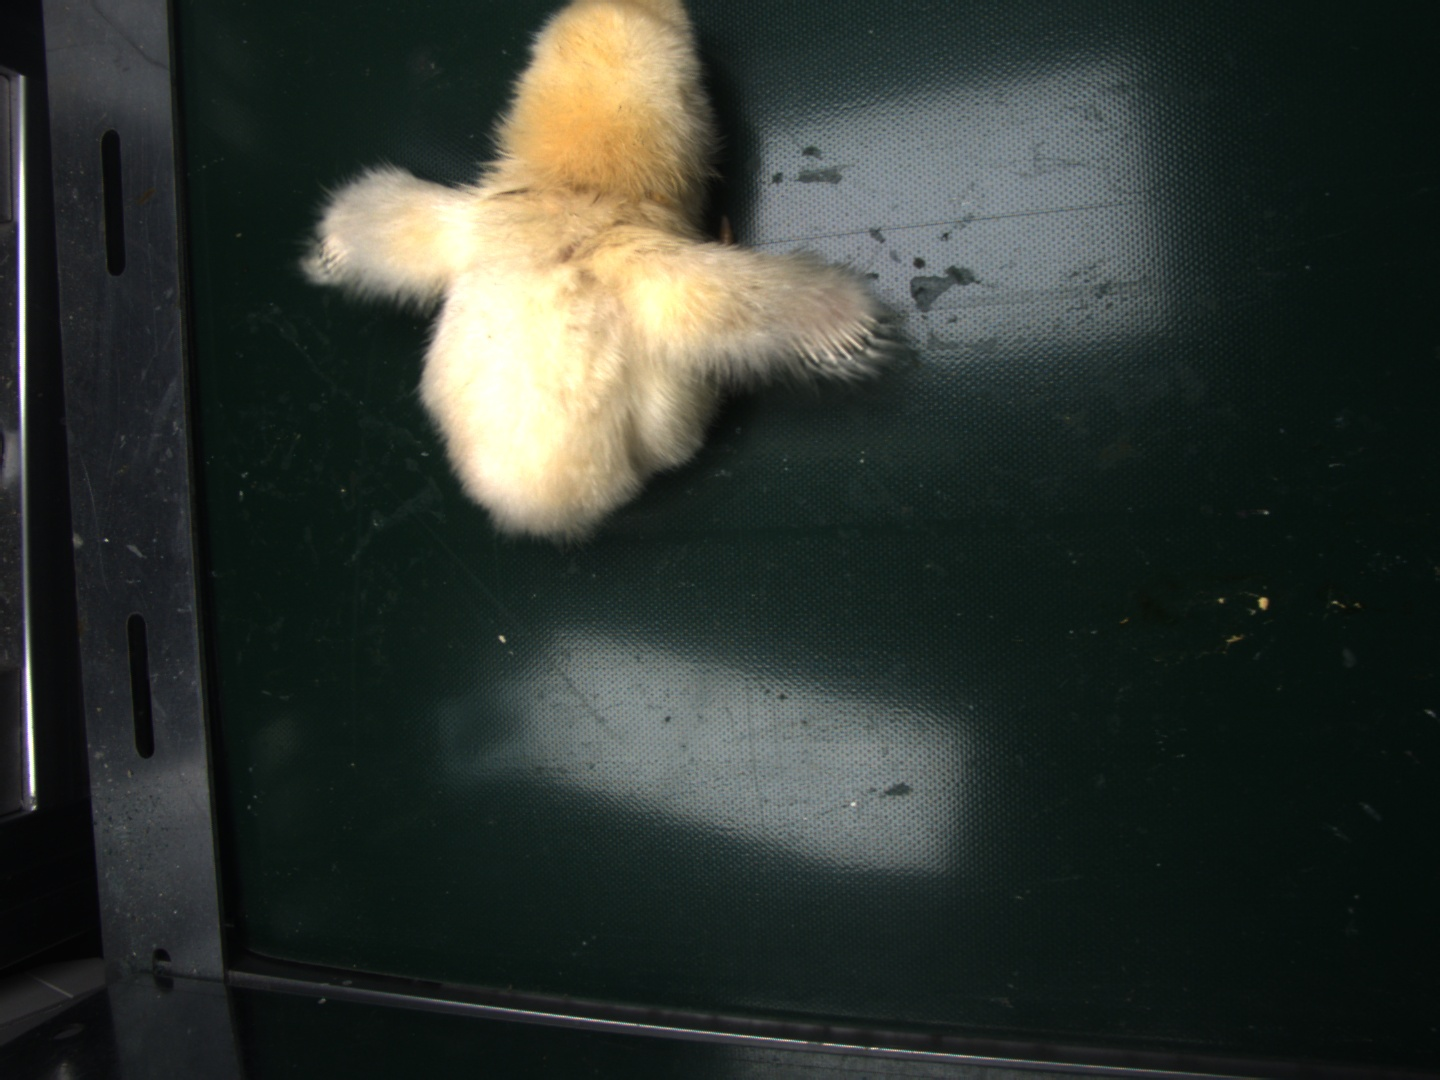male: (788, 306, 876, 369)
